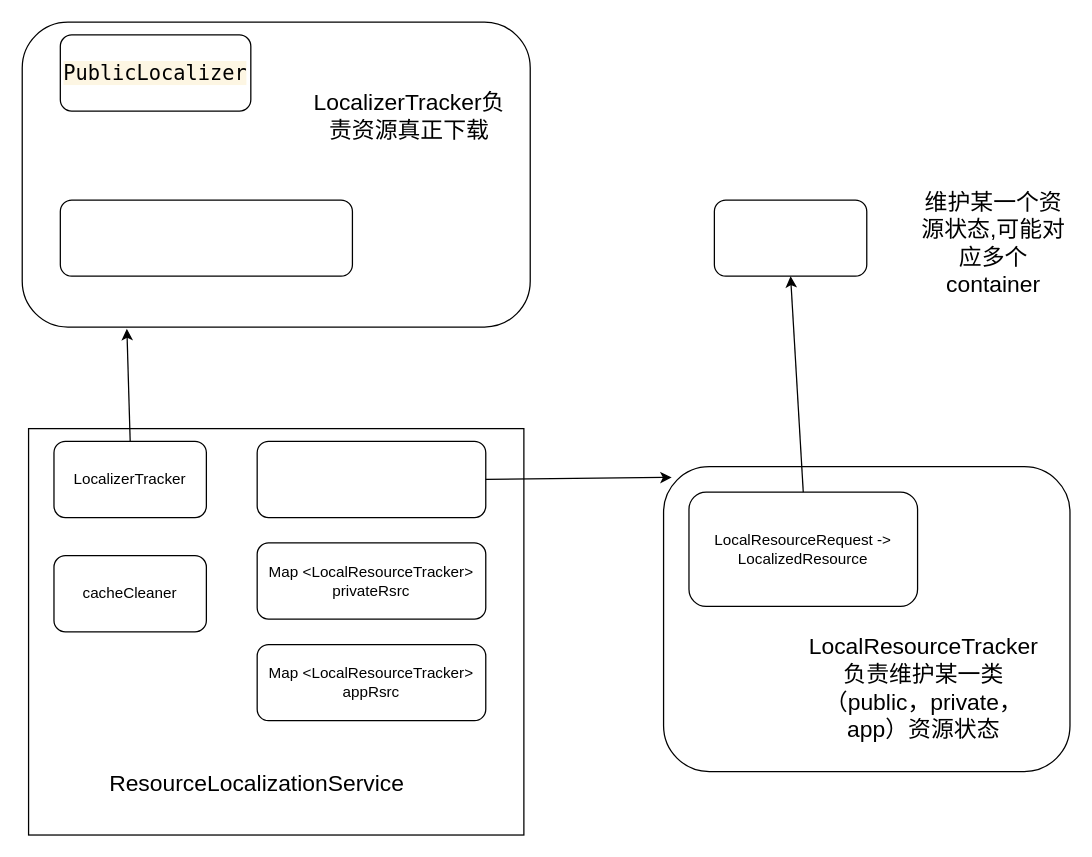
The diagram is 1092 pixels wide and 857 high, and some of its shapes have lost their labels. The shapes that lost their labels are listed below. From the top down, each one's box as (x1, y1, x2, y2) in pixels, then its label:
(59, 199, 352, 276): Map<LocalizerRunner>
(713, 199, 867, 276): LocalizedResource
(256, 440, 486, 518): <LocalResourceTracker> publicRsrc
